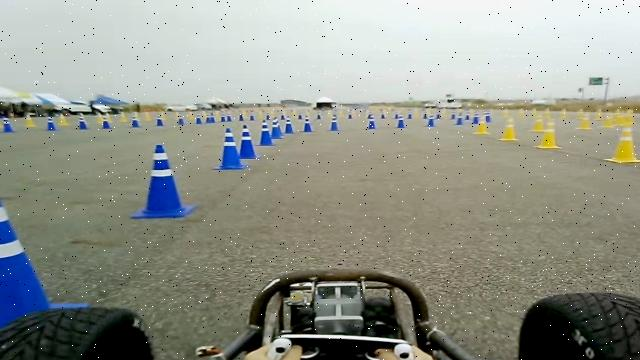blue cone: (0, 200, 50, 328), (129, 144, 196, 219), (212, 127, 247, 170), (238, 124, 260, 158), (256, 121, 275, 146), (303, 109, 314, 133), (327, 113, 340, 131), (270, 122, 284, 138), (284, 118, 294, 134)
yellow cone: (603, 112, 640, 164), (533, 111, 565, 149), (497, 112, 517, 141), (472, 108, 494, 134)
